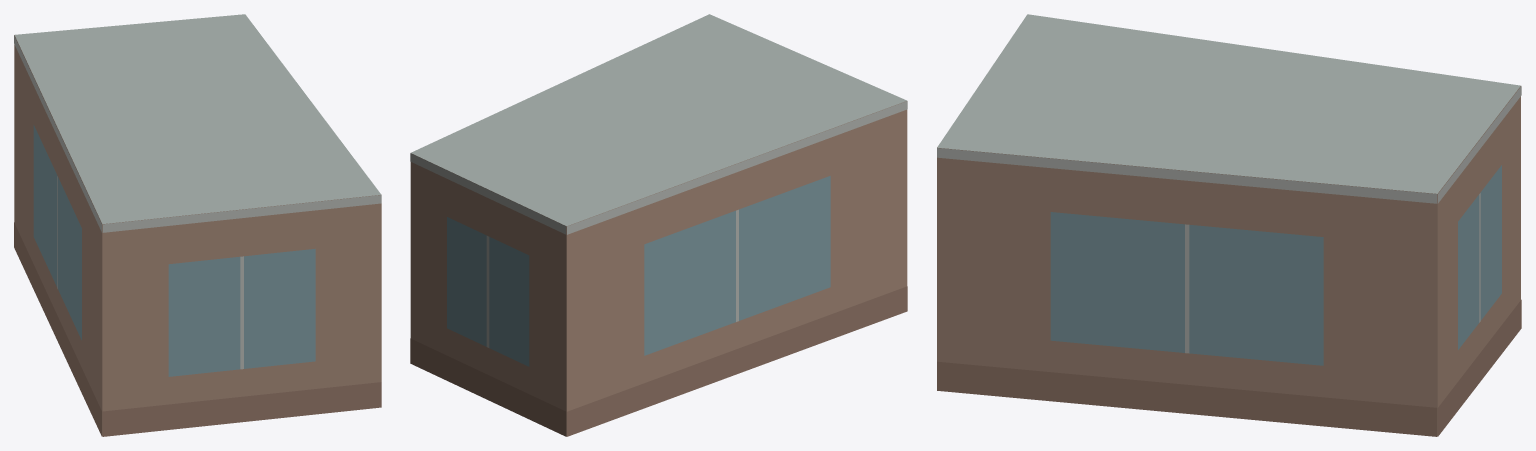
File: survey-upis-32668403.glb
3 renders of one model, left to right at view 1: azimuth 30°, elevation 25°; view 2: azimuth 150°, elevation 25°; view 3: azimuth 270°, elevation 25°, orthographic. The views are drawn at different scales.
Parts seen in each view (by area): view 1: survey-upis-32668403.tmp; view 2: survey-upis-32668403.tmp; view 3: survey-upis-32668403.tmp.
Part boxes in pixels (x1=…): survey-upis-32668403.tmp: x1=14, y1=14, x2=381, y2=436; survey-upis-32668403.tmp: x1=410, y1=14, x2=907, y2=436; survey-upis-32668403.tmp: x1=937, y1=14, x2=1521, y2=436.
Size of the model in its own units: 4.85 by 3.05 by 6.66.
